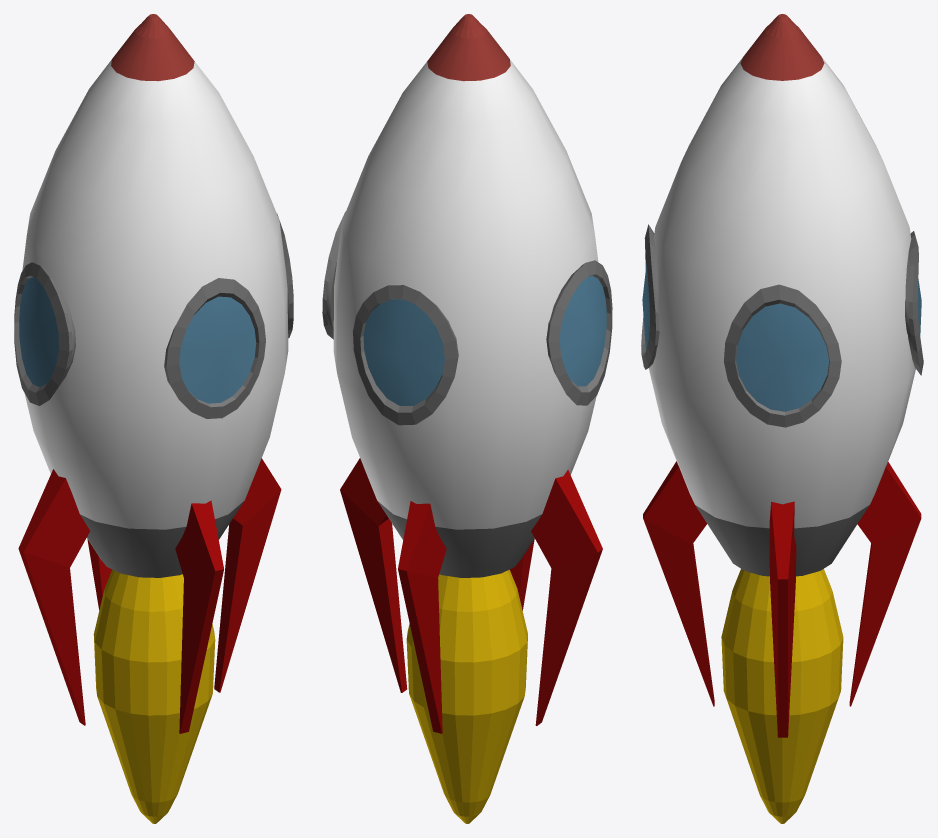
The model's file is COHETE.fbx.
3 renders of one model, left to right at view 1: azimuth 30°, elevation 25°; view 2: azimuth 150°, elevation 25°; view 3: azimuth 270°, elevation 25°, orthographic.
Parts seen in each view (by area): view 1: pCylinder1, pCylinder7, pCylinder3, pCube4, pCylinder6, pCube3, pCube2, pCube1, pCylinder4; view 2: pCylinder1, pCylinder7, pCylinder5, pCube4, pCylinder6, pCube1, pCube2, pCylinder4, pCube3; view 3: pCylinder1, pCylinder7, pCylinder4, pCube3, pCube1, pCube2, pCylinder3, pCylinder5.
Boxes of the visible parts, left/top/right/bottom form: pCylinder1: left=22, top=14, right=288, bottom=577; pCylinder7: left=93, top=569, right=215, bottom=823; pCylinder3: left=164, top=278, right=265, bottom=418; pCube4: left=18, top=469, right=89, bottom=725; pCylinder6: left=14, top=262, right=75, bottom=405; pCube3: left=175, top=500, right=223, bottom=733; pCube2: left=214, top=458, right=281, bottom=692; pCube1: left=87, top=539, right=111, bottom=609; pCylinder4: left=277, top=214, right=293, bottom=338; pCylinder1: left=333, top=14, right=598, bottom=577; pCylinder7: left=406, top=569, right=527, bottom=823; pCylinder5: left=353, top=285, right=458, bottom=425; pCube4: left=531, top=469, right=602, bottom=725; pCylinder6: left=546, top=260, right=612, bottom=405; pCube1: left=398, top=501, right=446, bottom=733; pCube2: left=340, top=458, right=407, bottom=692; pCylinder4: left=322, top=211, right=345, bottom=339; pCube3: left=509, top=539, right=534, bottom=610; pCylinder1: left=648, top=14, right=915, bottom=576; pCylinder7: left=721, top=569, right=843, bottom=823; pCylinder4: left=723, top=284, right=841, bottom=427; pCube3: left=643, top=461, right=714, bottom=706; pCube1: left=849, top=462, right=921, bottom=706; pCube2: left=769, top=501, right=796, bottom=737; pCylinder3: left=641, top=224, right=659, bottom=369; pCylinder5: left=905, top=231, right=923, bottom=375.
Size of the model in its own units: 3.63 by 10.83 by 3.44.
